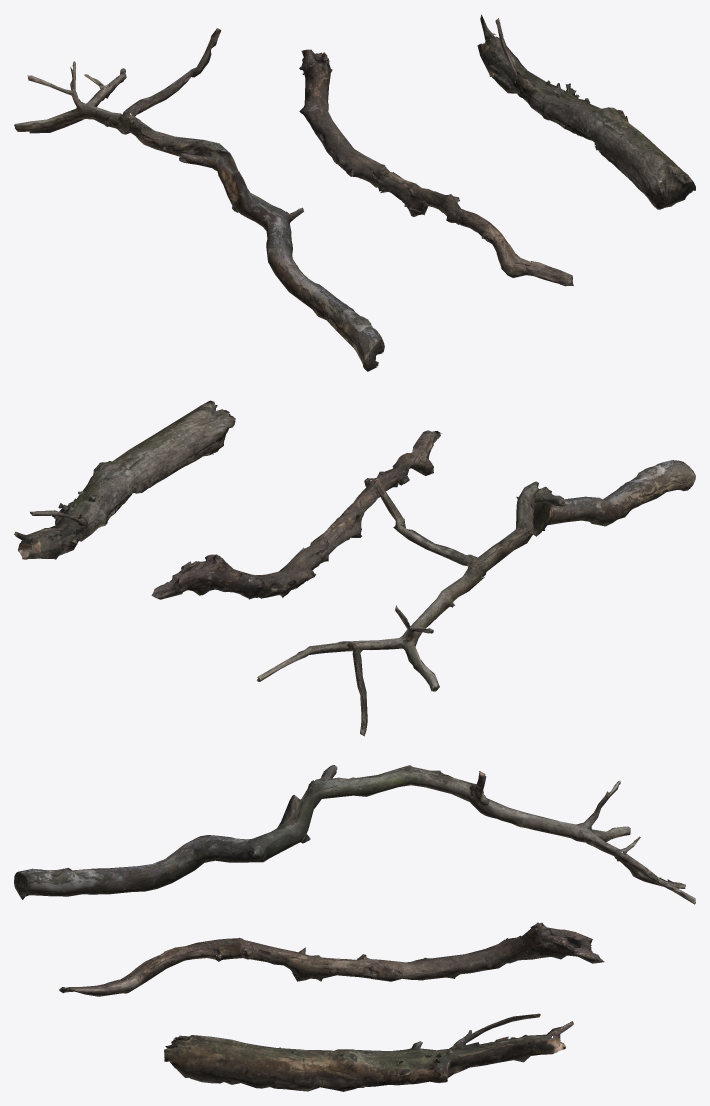
File: ph_dry_branches_medium_01.glb
The picture shows the model from 3 angles, top to bottom: view 1: azimuth 30°, elevation 25°; view 2: azimuth 150°, elevation 25°; view 3: azimuth 270°, elevation 25°; orthographic projection. The views are drawn at different scales.
Parts seen in each view (by area): view 1: ph_dry_branches_medium_01; view 2: ph_dry_branches_medium_01; view 3: ph_dry_branches_medium_01.
Boxes of the visible parts, box(x1,y1,x2,y2) form: ph_dry_branches_medium_01: box(14, 14, 695, 371); ph_dry_branches_medium_01: box(14, 400, 695, 736); ph_dry_branches_medium_01: box(14, 765, 695, 1091).
Size of the model in its own units: 1.06 by 0.3403 by 1.3.
1 material, 1 textured.
